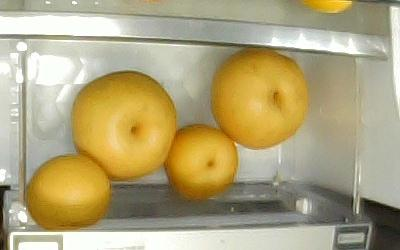pear: (71, 70, 177, 180), (209, 46, 306, 149), (27, 153, 111, 226), (164, 125, 238, 199)
